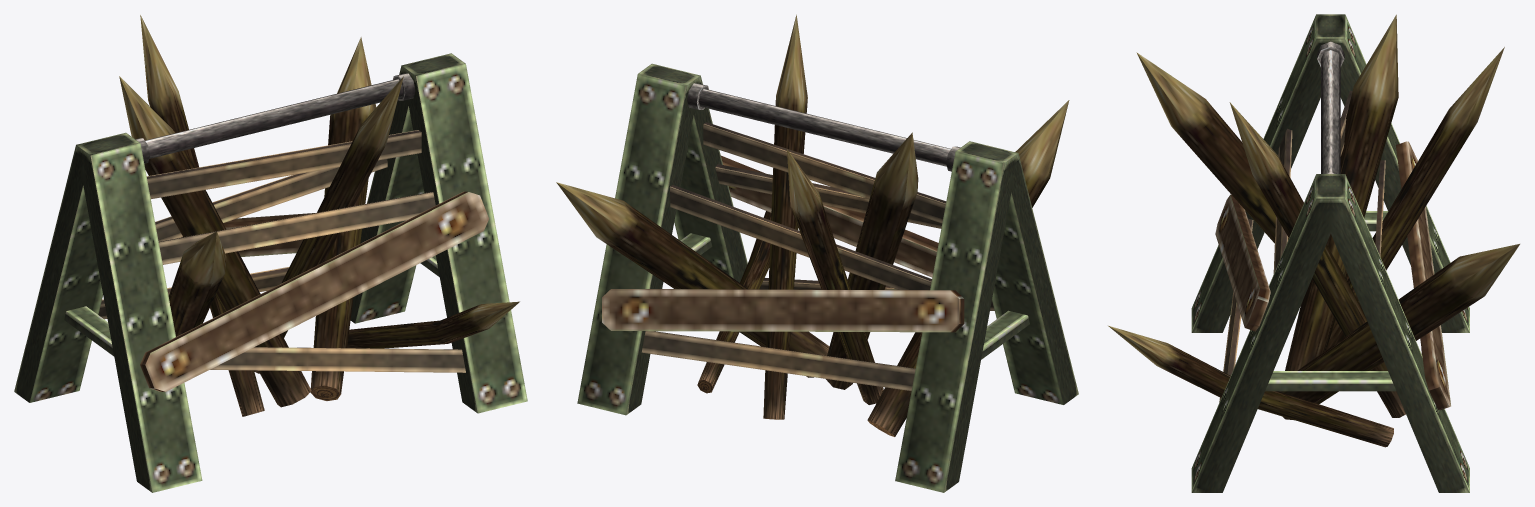
The picture shows the model from 3 angles, left to right: view 1: azimuth 30°, elevation 25°; view 2: azimuth 150°, elevation 25°; view 3: azimuth 270°, elevation 25°; orthographic projection. The views are drawn at different scales.
Visible parts, largest first — view 1: mesh_Mesh_T14bari; view 2: mesh_Mesh_T14bari; view 3: mesh_Mesh_T14bari.
Part boxes in pixels (x1=…): mesh_Mesh_T14bari: x1=14, y1=15, x2=527, y2=492; mesh_Mesh_T14bari: x1=556, y1=14, x2=1078, y2=492; mesh_Mesh_T14bari: x1=1108, y1=14, x2=1519, y2=492.
Size of the model in its own units: 2.44 by 2.13 by 2.31.
Materials: 2 (2 with a texture image).
